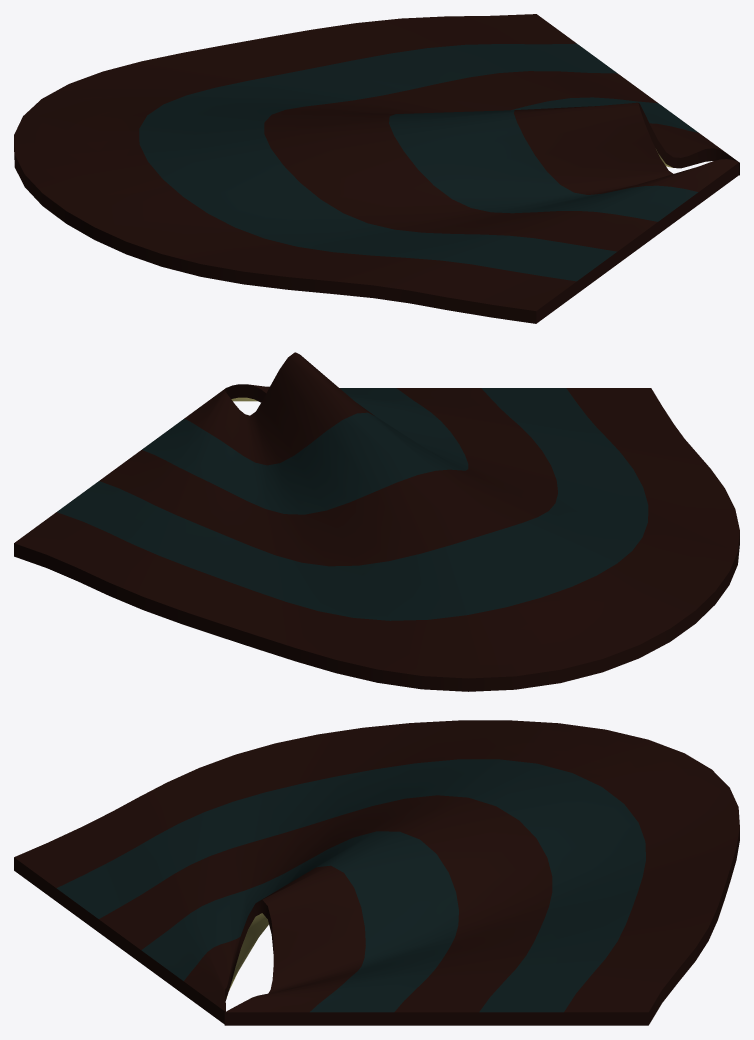
The model's file is tracksharp_left2.fbx.
3 views of the same model, one above another, from view 1: azimuth 30°, elevation 25°; view 2: azimuth 150°, elevation 25°; view 3: azimuth 270°, elevation 25° (orthographic). The views are drawn at different scales.
Visible parts, largest first — view 1: sharp_left2; view 2: sharp_left2; view 3: sharp_left2.
Part boxes in pixels (x1=…): sharp_left2: x1=14, y1=14, x2=739, y2=323; sharp_left2: x1=14, y1=352, x2=739, y2=691; sharp_left2: x1=14, y1=720, x2=739, y2=1025.
Bounding box in the file's own units: 460 × 62.82 × 495.
1 material, 1 textured.
